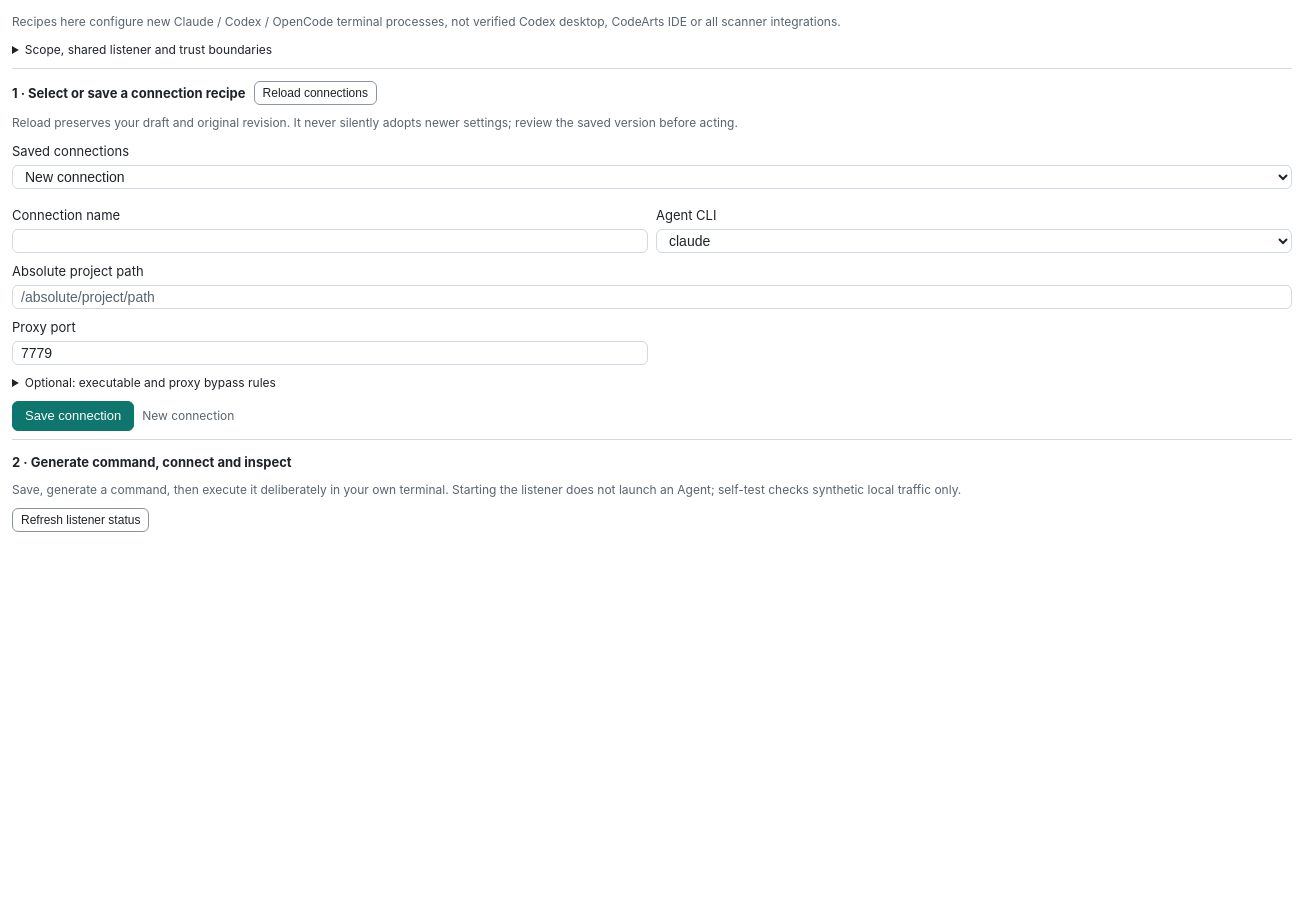
Scenario: owns a plan timeout even if fetch ignores abort and never restores its late command after cancellation
Select "Synthetic recipe · codex · r1" in the dropdown labelled "Saved connections" at (652, 177), box top-left (12, 165), bottom-right (1292, 189)
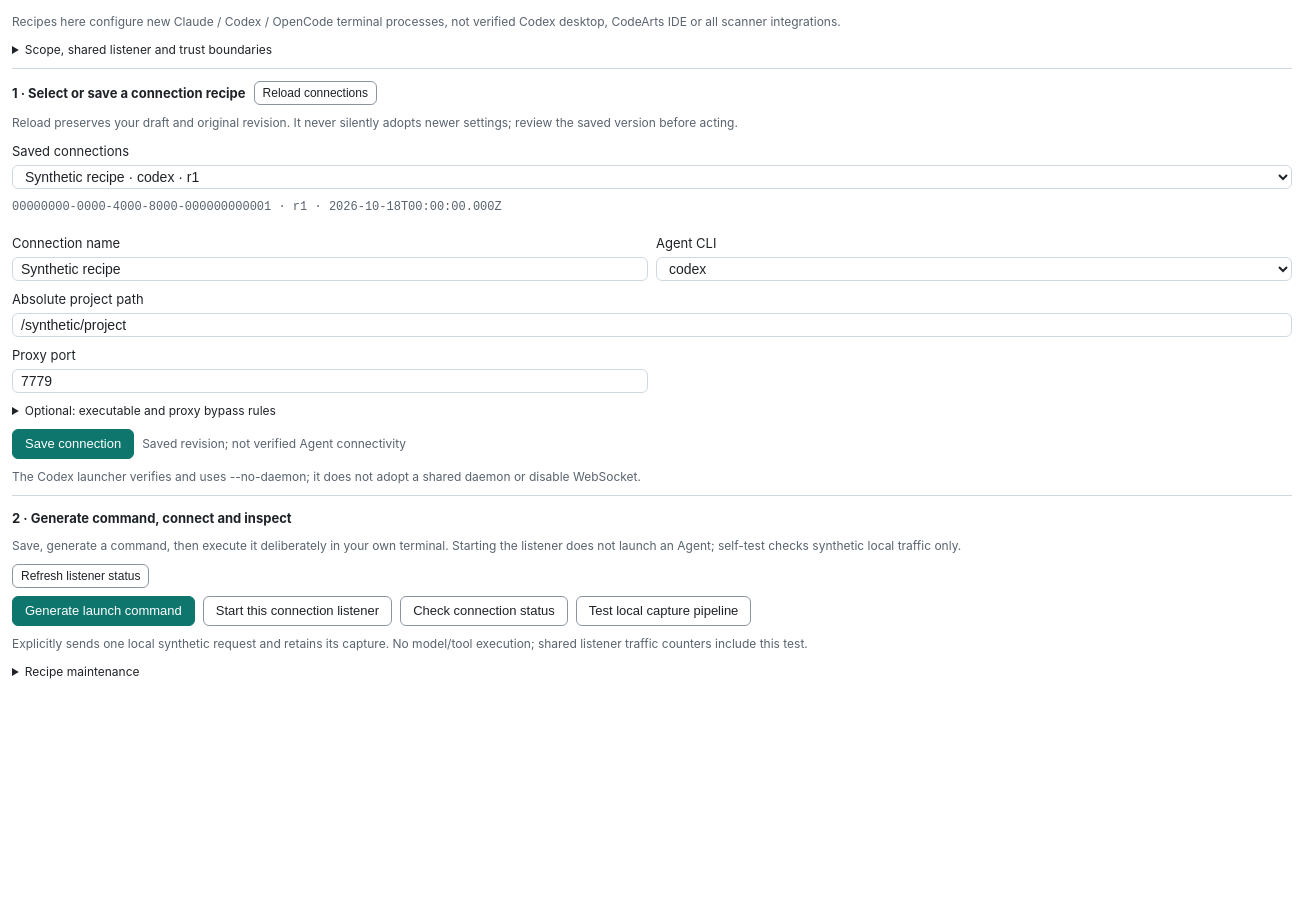
Click the button "Generate launch command" at (103, 611), box top-left (12, 596), bottom-right (195, 626)
Wait 5000 ms
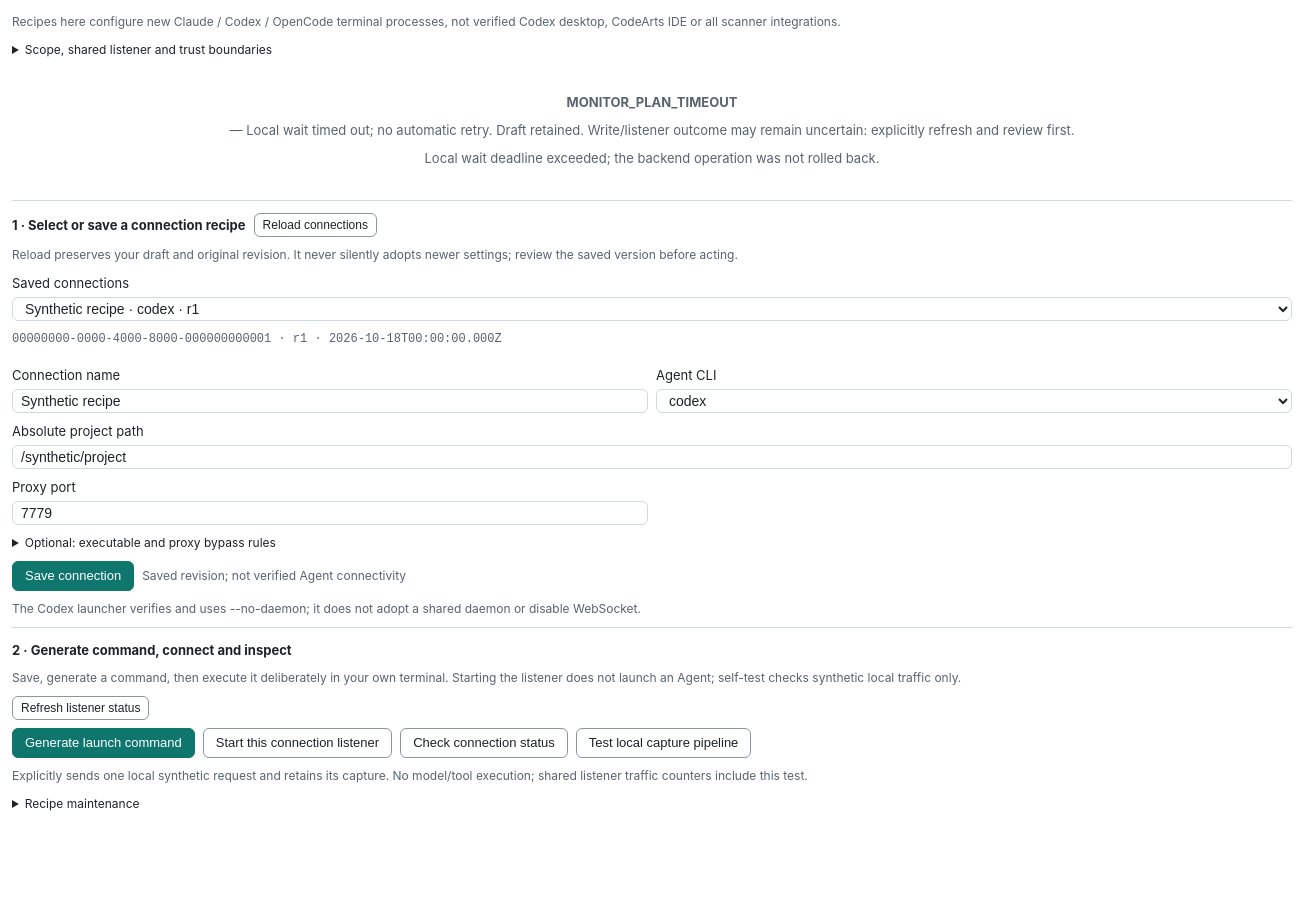
Result: the button "Generate launch command" is enabled at top-left (12, 728), bottom-right (195, 758)
Result: the text "MONITOR_PLAN_TIMEOUT" is shown at top-left (567, 92), bottom-right (737, 112)
